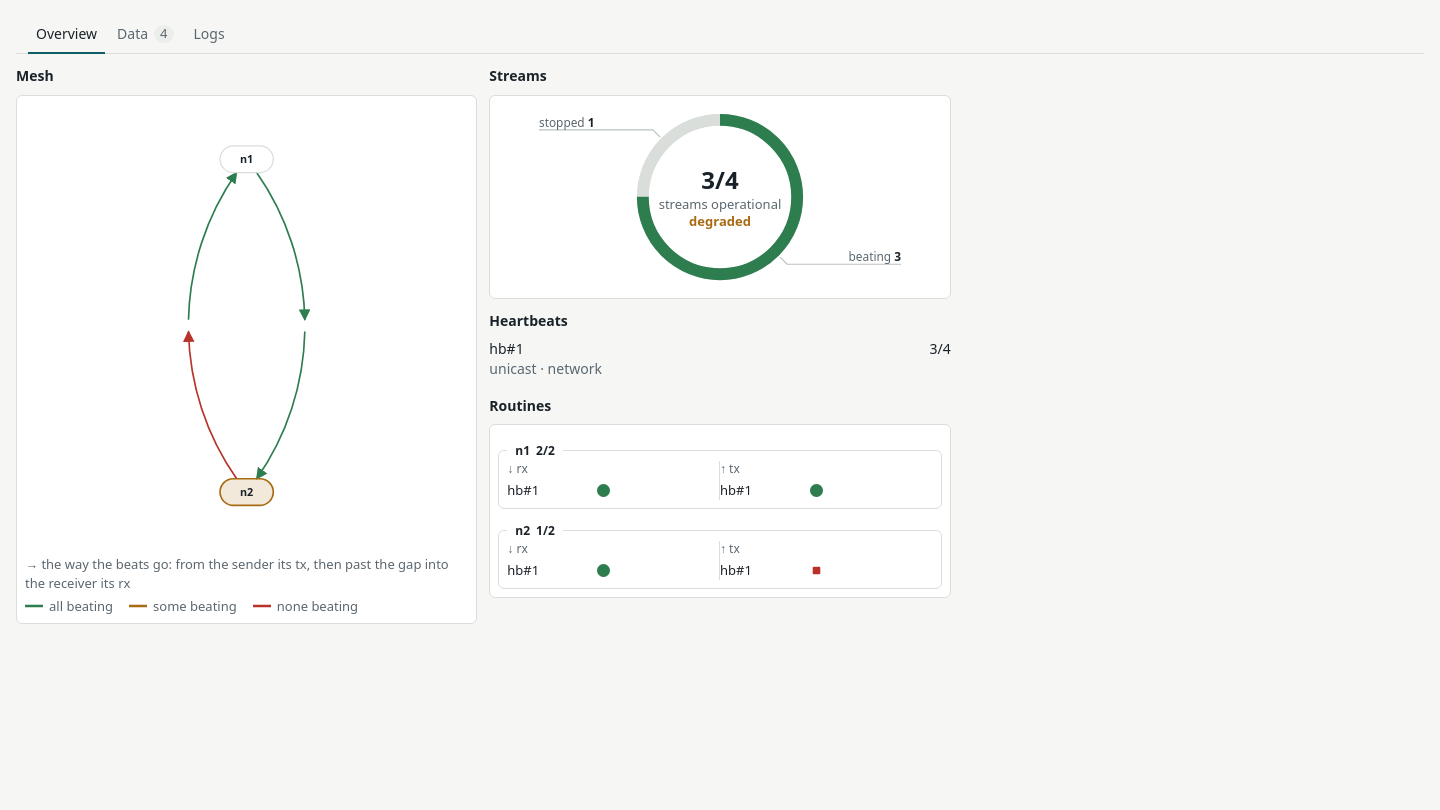
Test: Heartbeats Component › not root: a heartbeat's configuration only, no wizard, no new one
Click the button named "Show the configuration of hb#1" at (720, 405), box [0,0,1439,809]
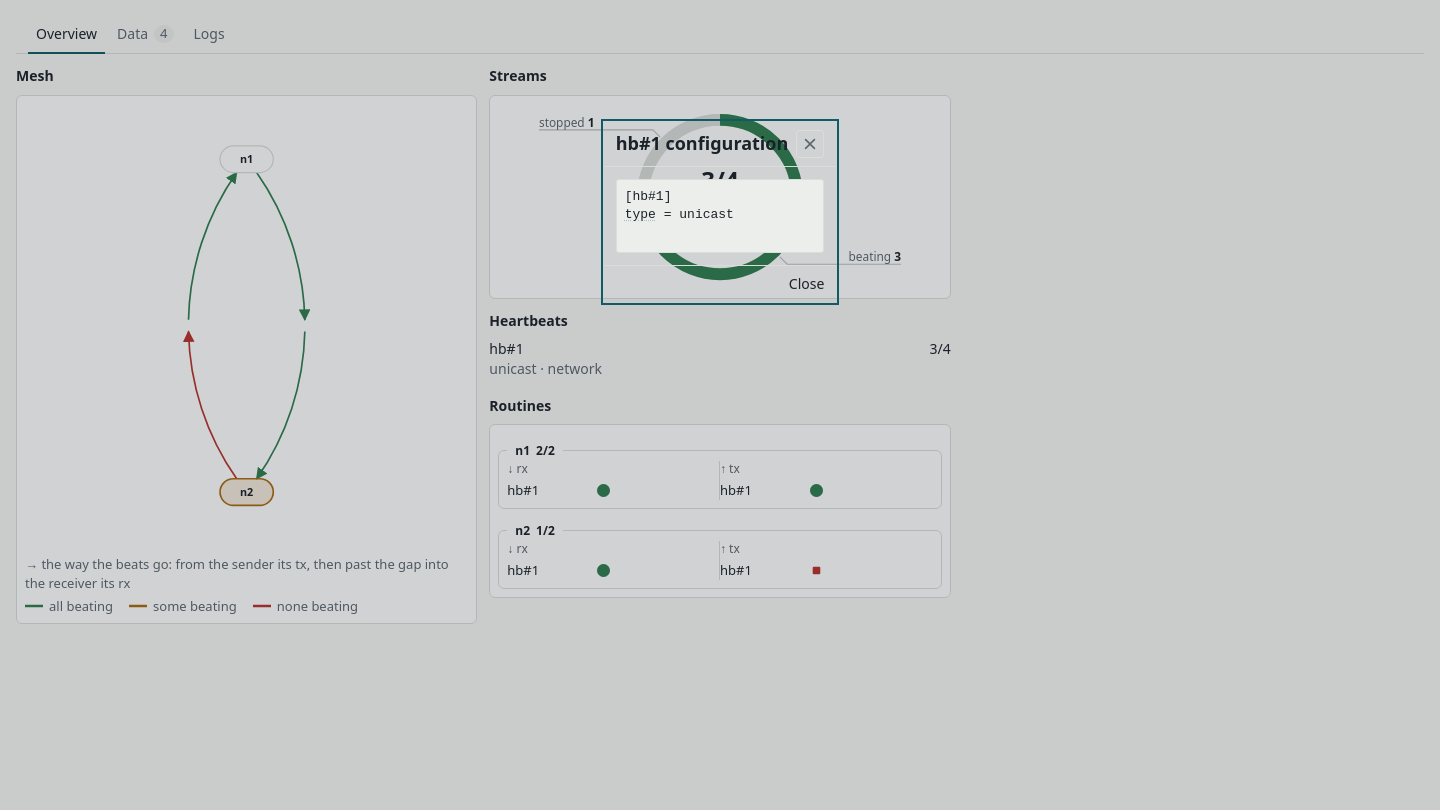
Expected: the dialog shows "type = unicast", [604,122,836,302]
